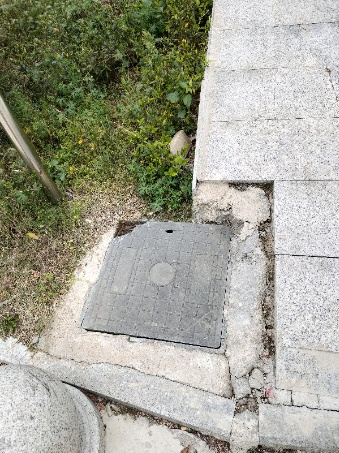broke: (77, 216, 236, 355)
